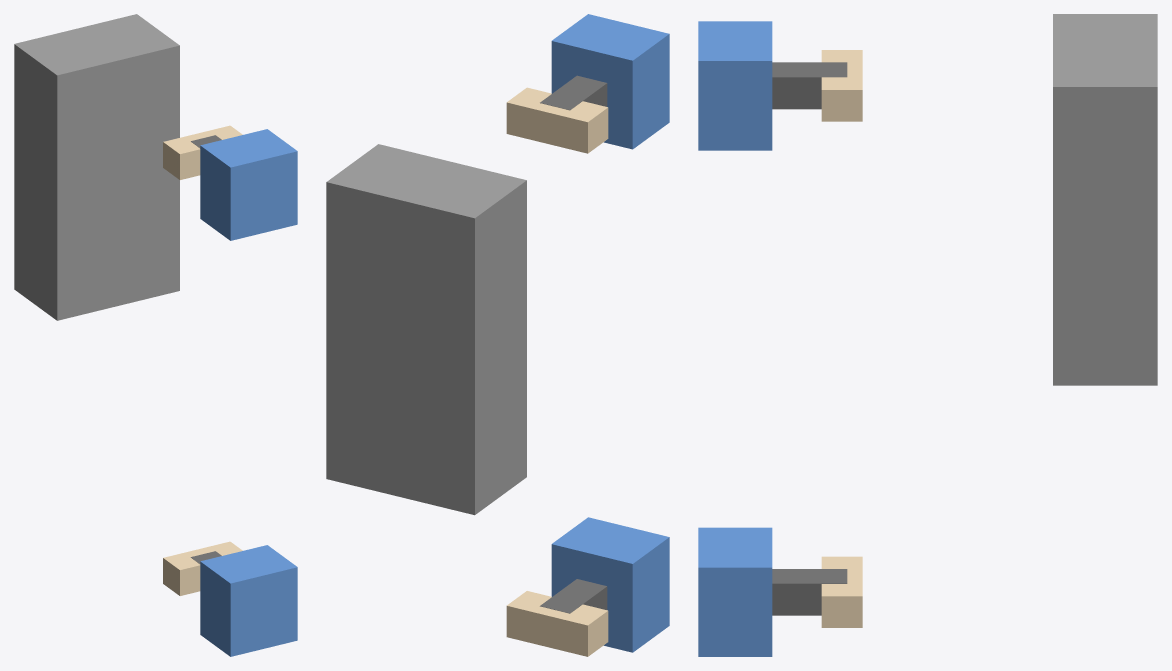
Rendered from sky130_fd_sc_hd__fill_1.gds.gltf.
3 renders of one model, left to right at view 1: azimuth 30°, elevation 25°; view 2: azimuth 150°, elevation 25°; view 3: azimuth 270°, elevation 25°, orthographic. The views are drawn at different scales.
Visible parts, largest first — view 1: sky130_fd_sc_hd__fill_1_nwell, sky130_fd_sc_hd__fill_1_met1, sky130_fd_sc_hd__fill_1_li1; view 2: sky130_fd_sc_hd__fill_1_nwell, sky130_fd_sc_hd__fill_1_met1, sky130_fd_sc_hd__fill_1_li1, sky130_fd_sc_hd__fill_1_mcon; view 3: sky130_fd_sc_hd__fill_1_nwell, sky130_fd_sc_hd__fill_1_met1, sky130_fd_sc_hd__fill_1_mcon, sky130_fd_sc_hd__fill_1_li1.
Part boxes in pixels (x1,y1,x2,y2): sky130_fd_sc_hd__fill_1_nwell: (14,14,179,320); sky130_fd_sc_hd__fill_1_met1: (200,129,297,656); sky130_fd_sc_hd__fill_1_li1: (163,125,242,595); sky130_fd_sc_hd__fill_1_nwell: (326,144,526,515); sky130_fd_sc_hd__fill_1_met1: (551,14,669,652); sky130_fd_sc_hd__fill_1_li1: (506,87,608,656); sky130_fd_sc_hd__fill_1_mcon: (540,75,607,613); sky130_fd_sc_hd__fill_1_nwell: (1053,14,1157,385); sky130_fd_sc_hd__fill_1_met1: (698,21,772,656); sky130_fd_sc_hd__fill_1_mcon: (772,62,847,615); sky130_fd_sc_hd__fill_1_li1: (821,50,862,627).
Size of the model in its own units: 0.84 by 3.2 by 2.24.
